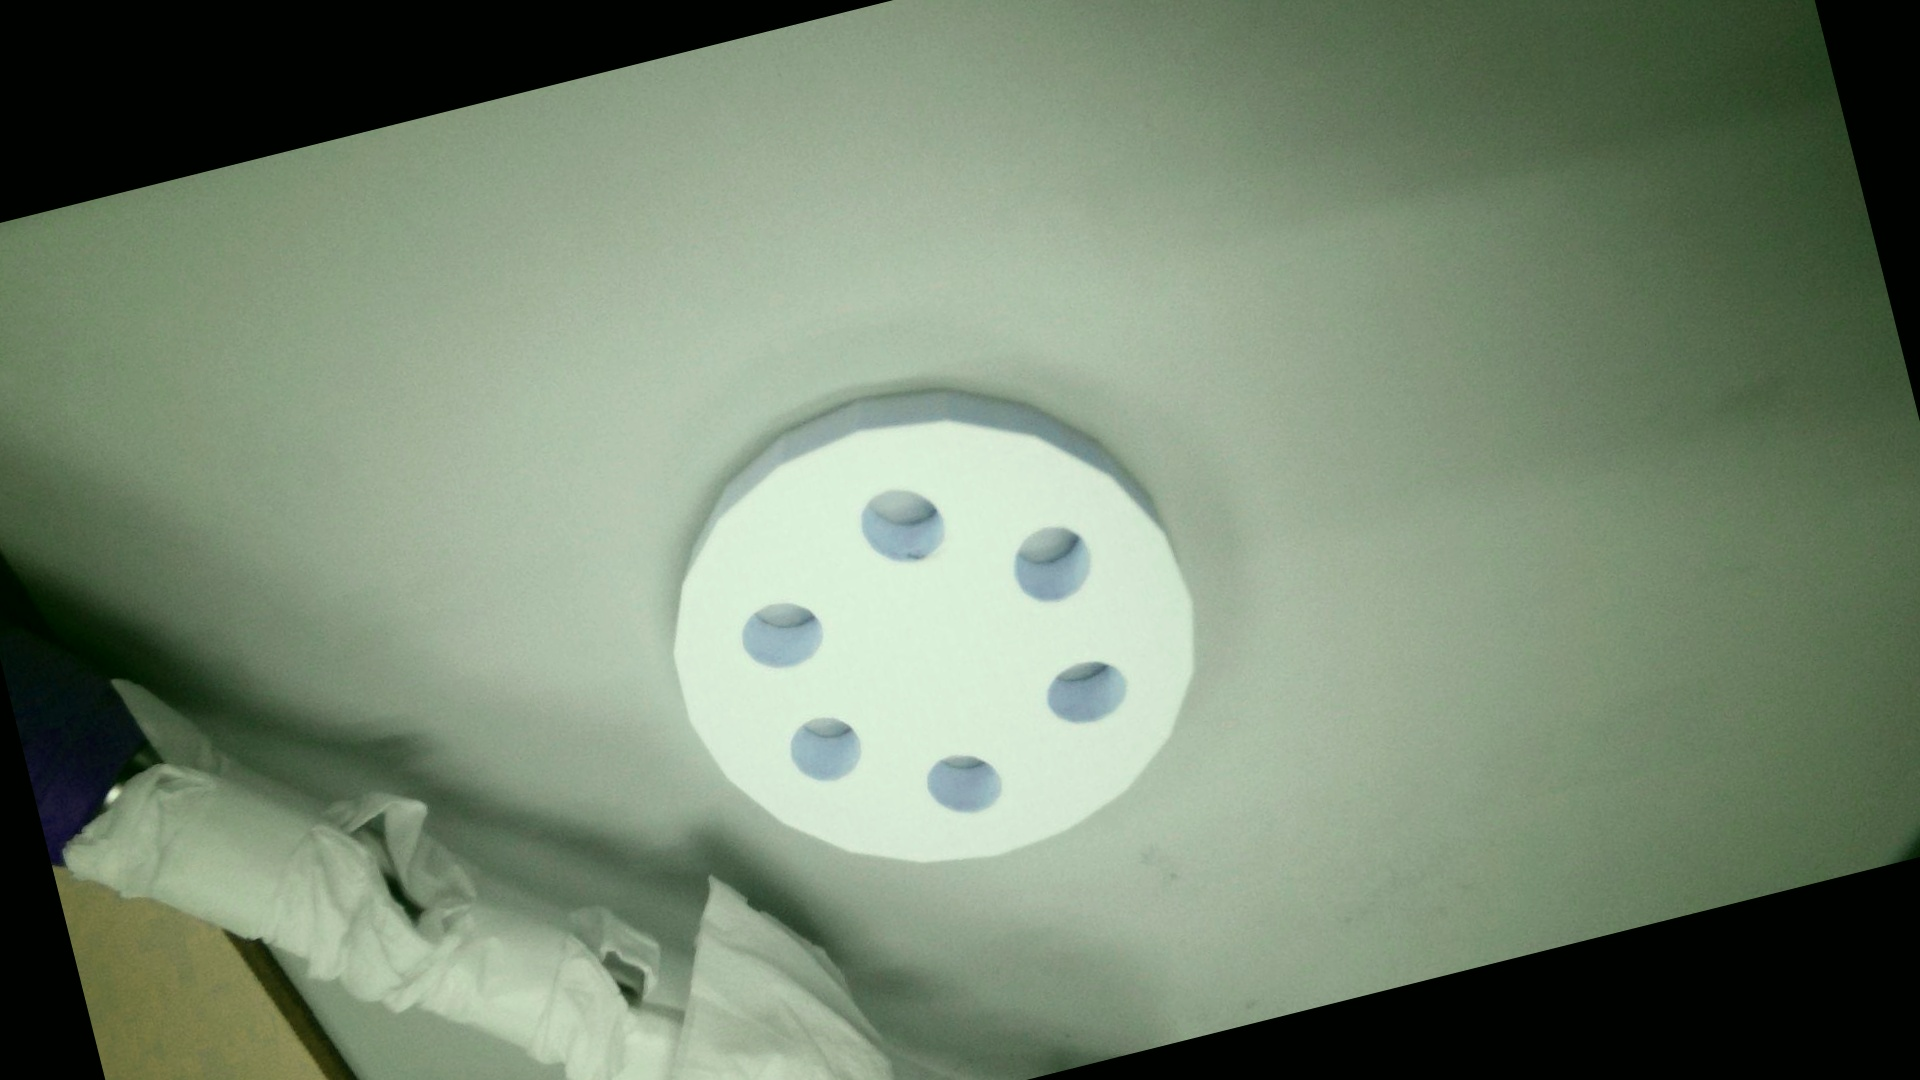hole: (723, 589, 833, 682), (856, 479, 949, 576), (909, 740, 1011, 828), (1007, 520, 1097, 615), (1038, 651, 1135, 736), (779, 711, 865, 793)
obj: (608, 313, 1265, 935)
